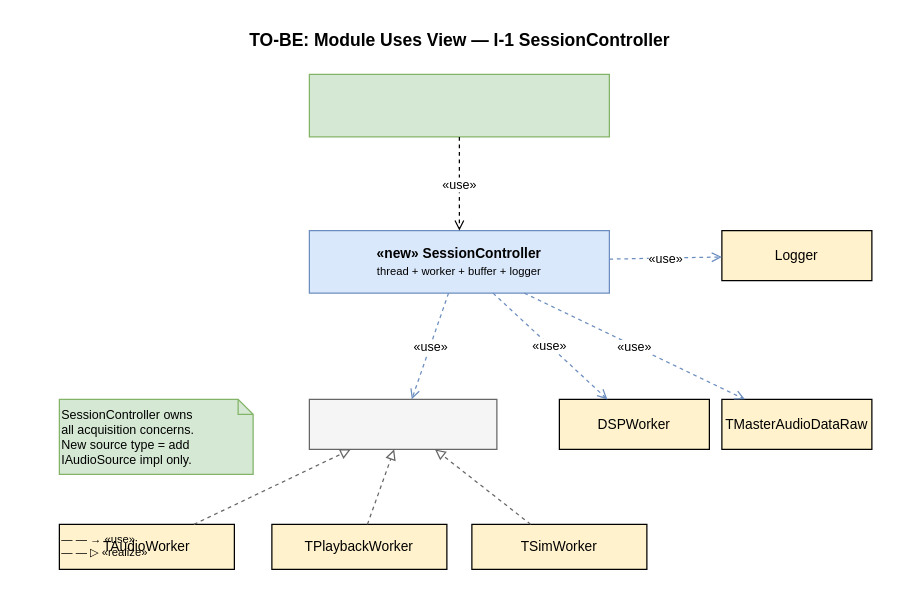
The diagram is 918 pixels wide and 591 high, and some of its shapes have lost their labels. Here are the shapes that lost their labels. From the top down, the centre of each, then its label:
At (x=458, y=105): "MainWindow ~750 lines — UI + tabs + diagnosis".
At (x=402, y=423): "«interface» IAudioSource".
